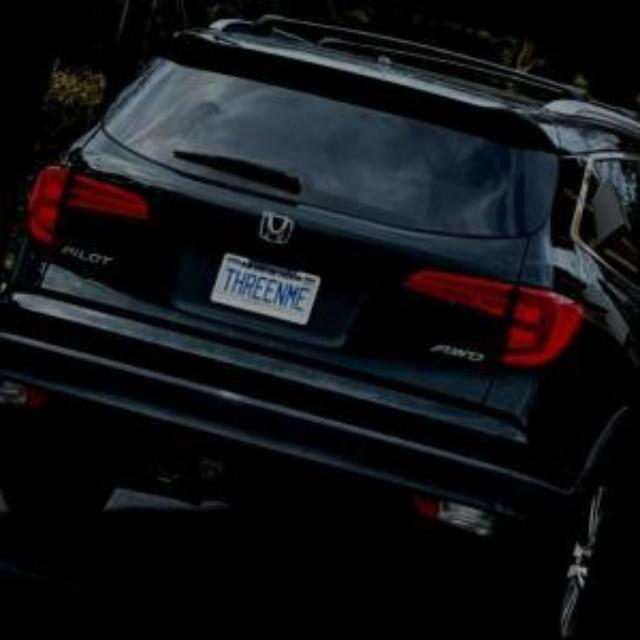License Plate: (206, 250, 321, 327)
